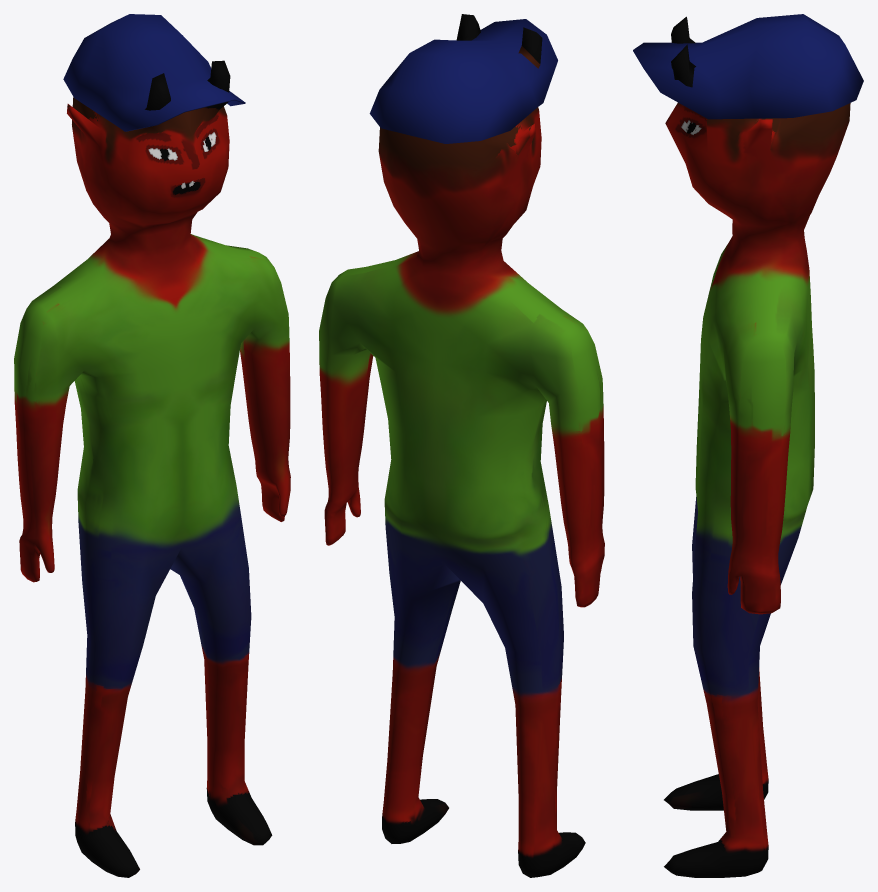
Rendered from Demon_Child_Male.fbx.
3 views of the same model, side by side, from view 1: azimuth 30°, elevation 25°; view 2: azimuth 150°, elevation 25°; view 3: azimuth 270°, elevation 25° (orthographic). The views are drawn at different scales.
Parts seen in each view (by area): view 1: MaleChild; view 2: MaleChild; view 3: MaleChild.
Boxes of the visible parts, <box> form: MaleChild: <box>14,14,290,877</box>; MaleChild: <box>319,14,604,877</box>; MaleChild: <box>633,14,863,877</box>.
Size of the model in its own units: 78.43 by 226 by 57.75.
2 materials, 1 textured.
